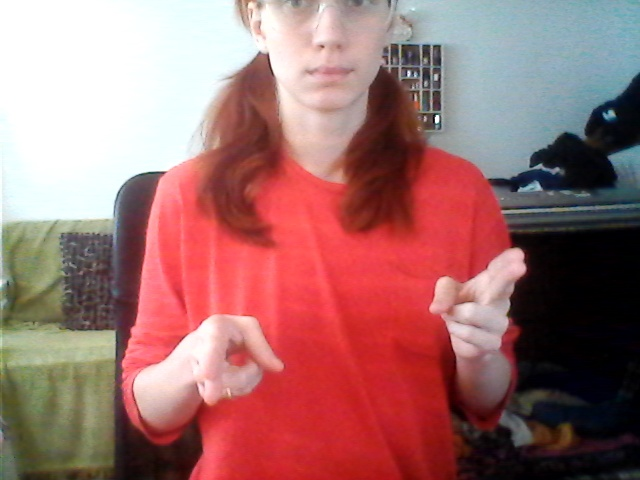ako: (189, 244, 531, 413)
